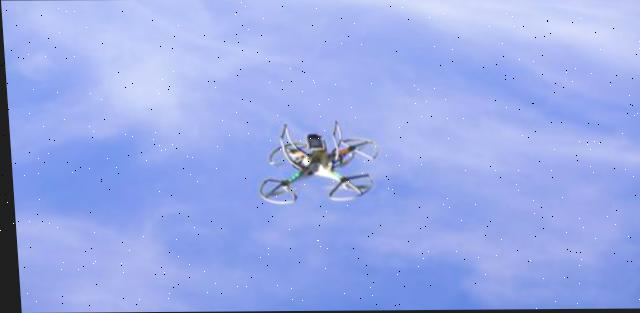drone: (241, 115, 394, 215)
